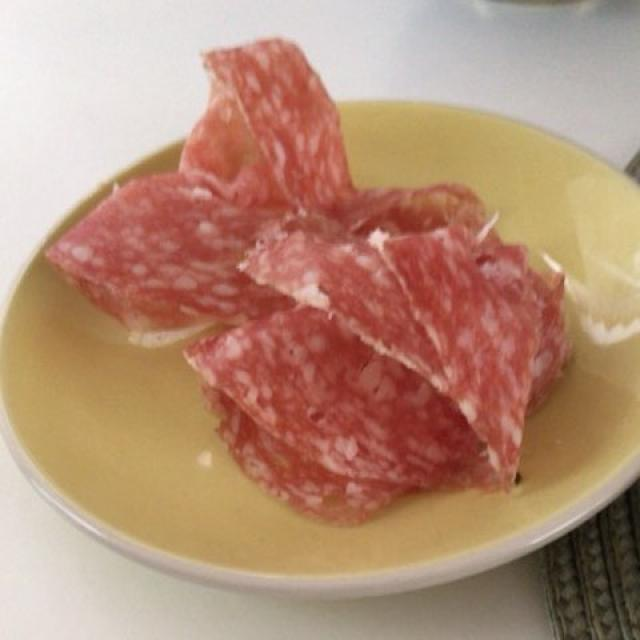salami: (58, 43, 570, 527)
